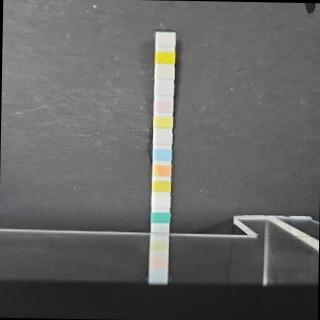mark: (155, 33, 174, 46), (156, 50, 173, 64), (154, 115, 172, 128), (153, 195, 170, 208), (154, 100, 172, 112), (155, 66, 173, 78), (152, 180, 169, 192), (153, 164, 170, 176), (153, 148, 170, 160), (154, 132, 171, 144), (155, 84, 172, 96), (151, 212, 169, 222)
